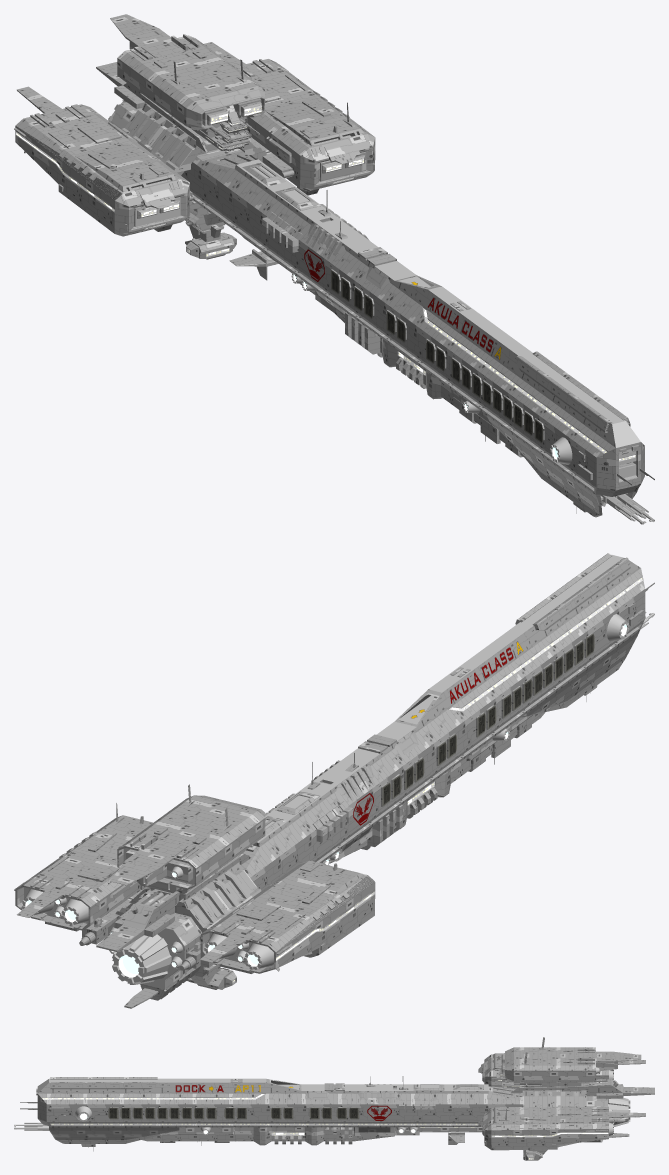
The model's file is Fregate_01.FBX.
The picture shows the model from 3 angles, top to bottom: view 1: azimuth 30°, elevation 25°; view 2: azimuth 150°, elevation 25°; view 3: azimuth 270°, elevation 25°; orthographic projection. The views are drawn at different scales.
Parts seen in each view (by area): view 1: [body]; view 2: [body]; view 3: [body], Plane002, Plane004.
Part boxes in pixels (left/top/right/bottom): [body]: left=14, top=14, right=654, bottom=524; [body]: left=14, top=553, right=654, bottom=1008; [body]: left=14, top=1037, right=654, bottom=1160; Plane002: left=175, top=1085, right=260, bottom=1092; Plane004: left=367, top=1105, right=391, bottom=1120.
Bounding box in the file's own units: 835 × 575 × 2959.
